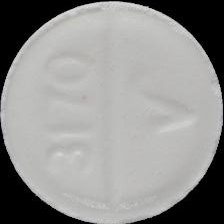61919-284: (0, 0, 224, 224)
